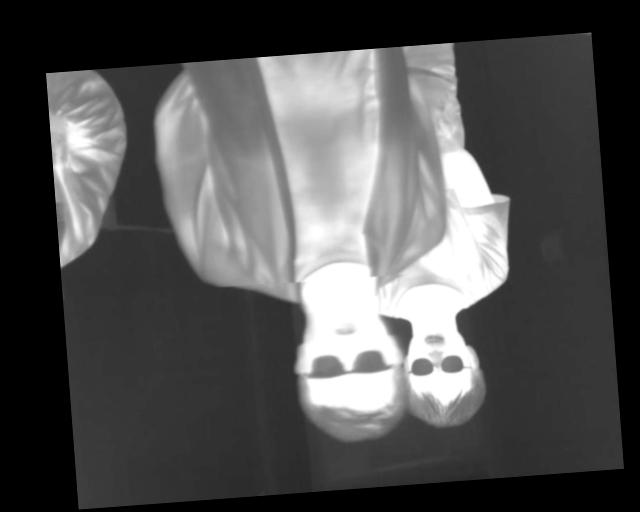face: (288, 288, 407, 450), (402, 317, 489, 433)
